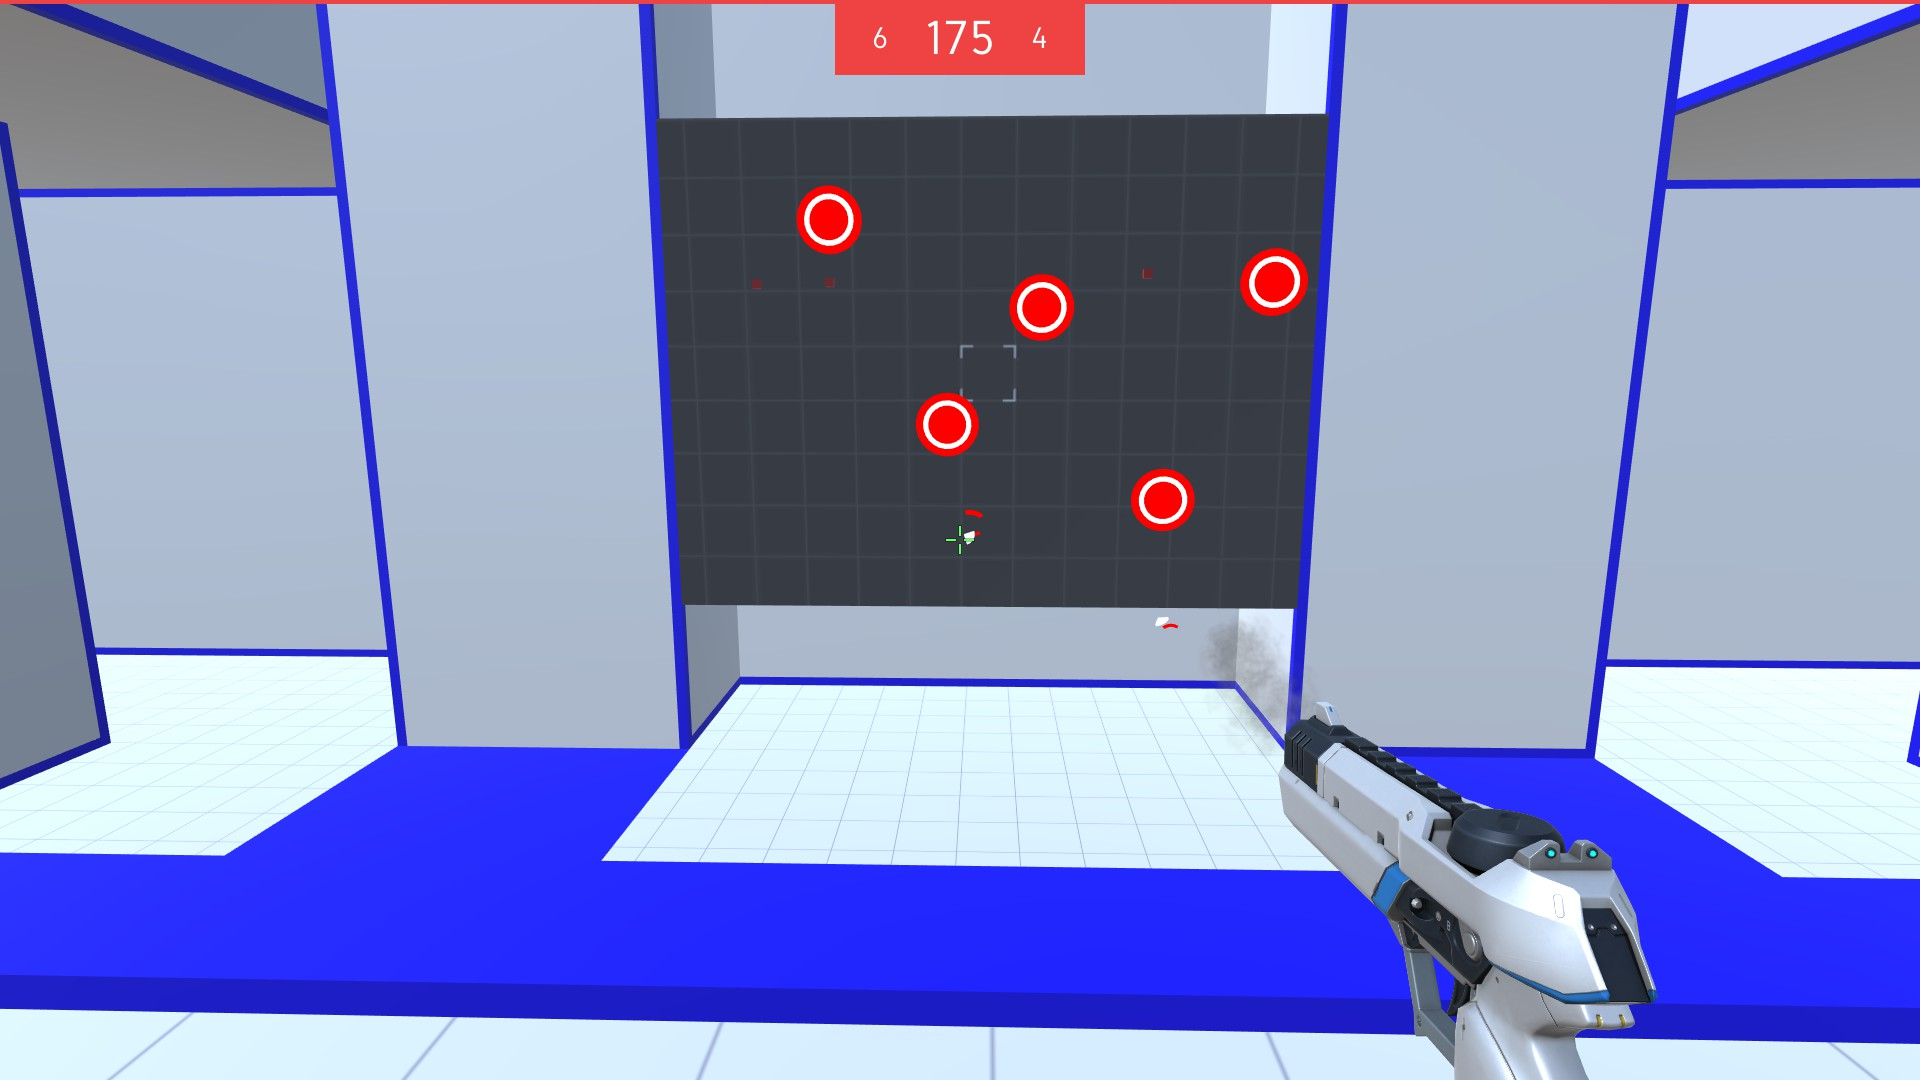target: (1006, 269, 1083, 347), (1237, 241, 1309, 322), (793, 181, 865, 256), (1125, 464, 1199, 535), (913, 390, 984, 460)
